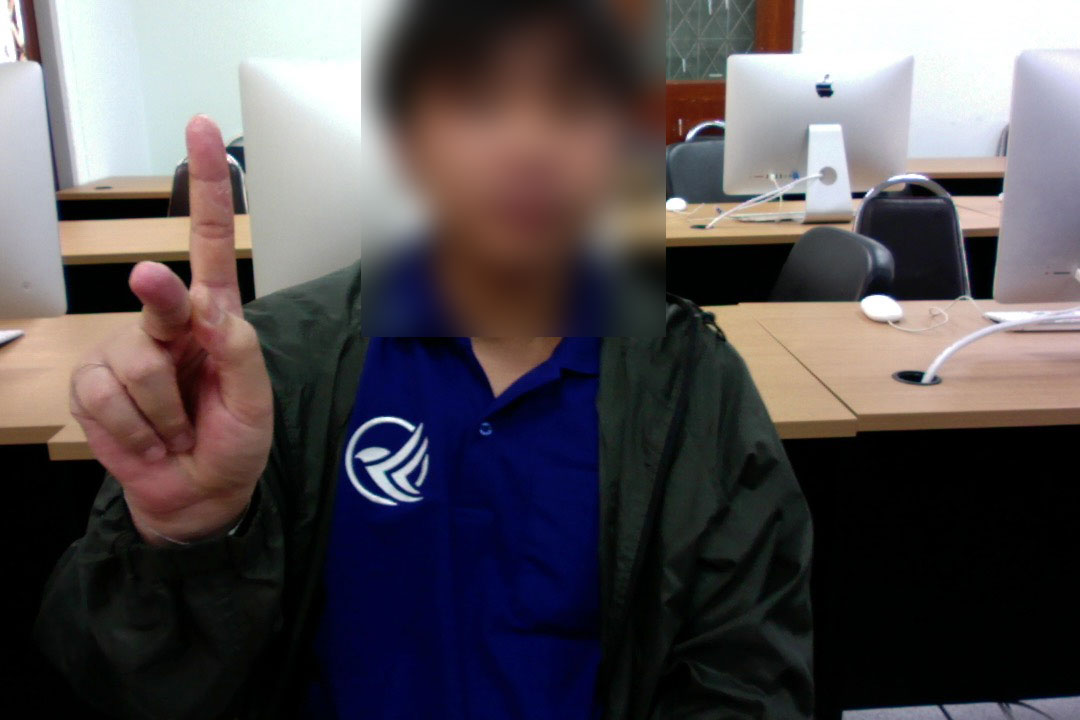ko: (57, 107, 284, 550)
